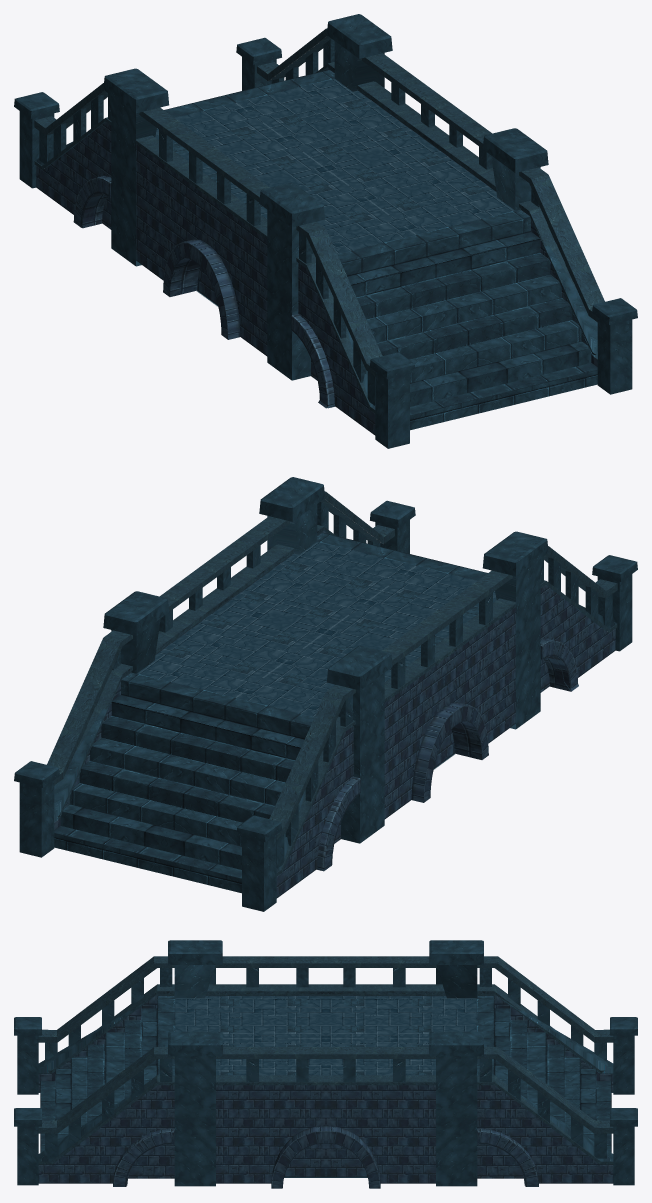
Rendered from ponte3.fbx.
3 renders of one model, top to bottom at view 1: azimuth 30°, elevation 25°; view 2: azimuth 150°, elevation 25°; view 3: azimuth 270°, elevation 25°, orthographic. The views are drawn at different scales.
Visible parts, largest first — view 1: Cube.001, Cube.000; view 2: Cube.001, Cube.000; view 3: Cube.001, Cube.000.
Boxes of the visible parts, box(x1,y1,x2,y2) form: Cube.001: box(14, 14, 637, 448); Cube.000: box(34, 29, 597, 370); Cube.001: box(14, 477, 637, 911); Cube.000: box(54, 491, 617, 835); Cube.001: box(14, 940, 637, 1188); Cube.000: box(38, 956, 594, 1058).
Bounding box in the file's own units: 750 × 473 × 1857.
